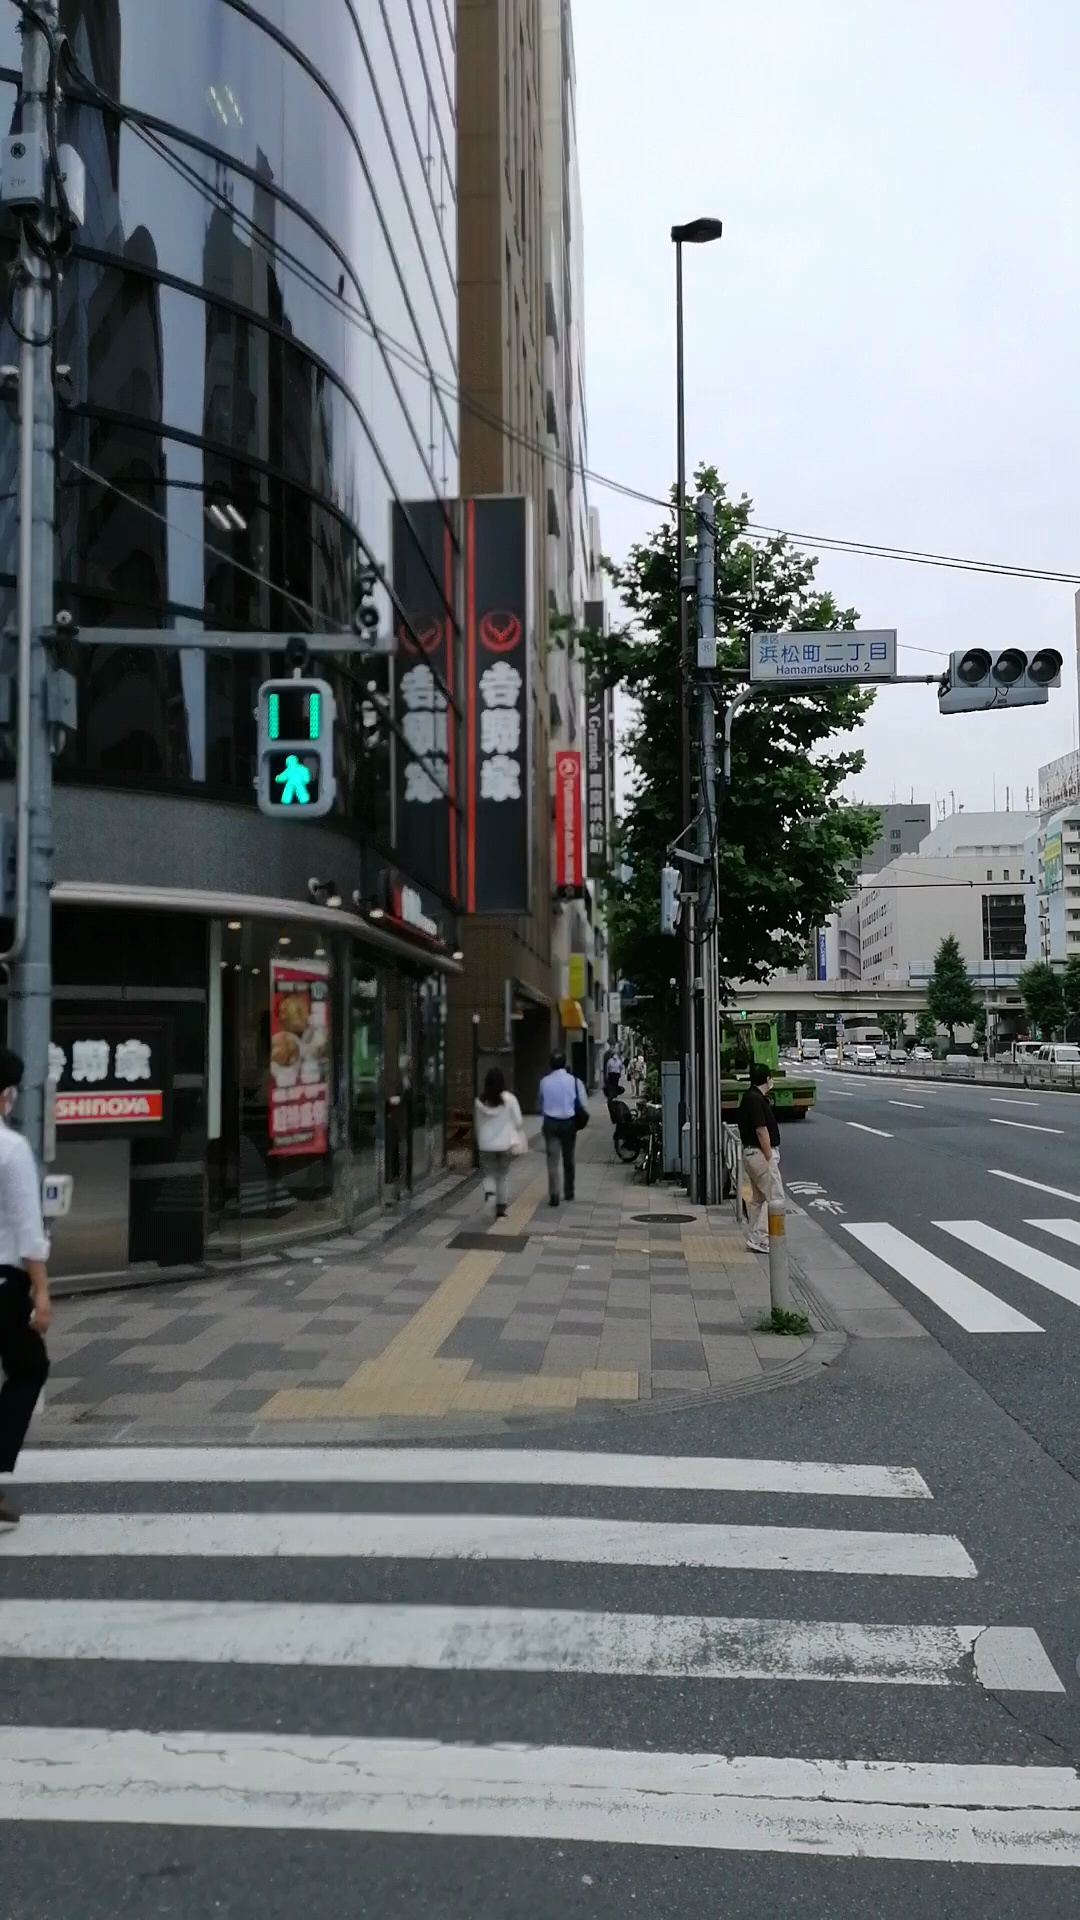green: (255, 676, 332, 816)
